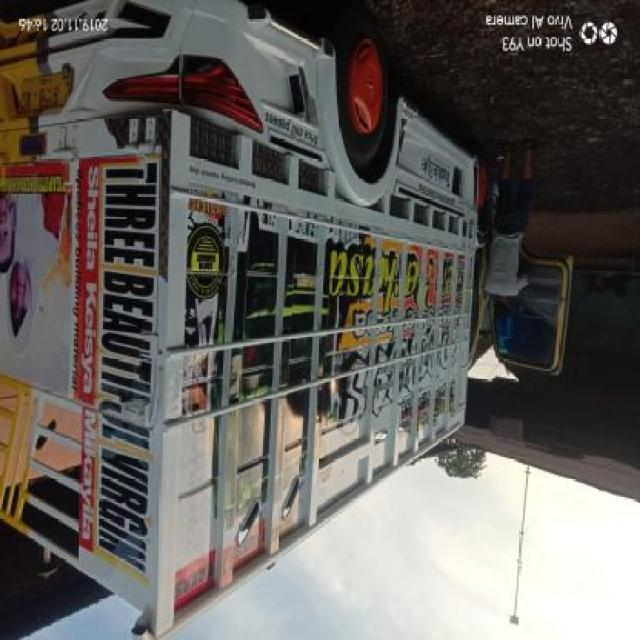truck: (2, 1, 576, 638)
